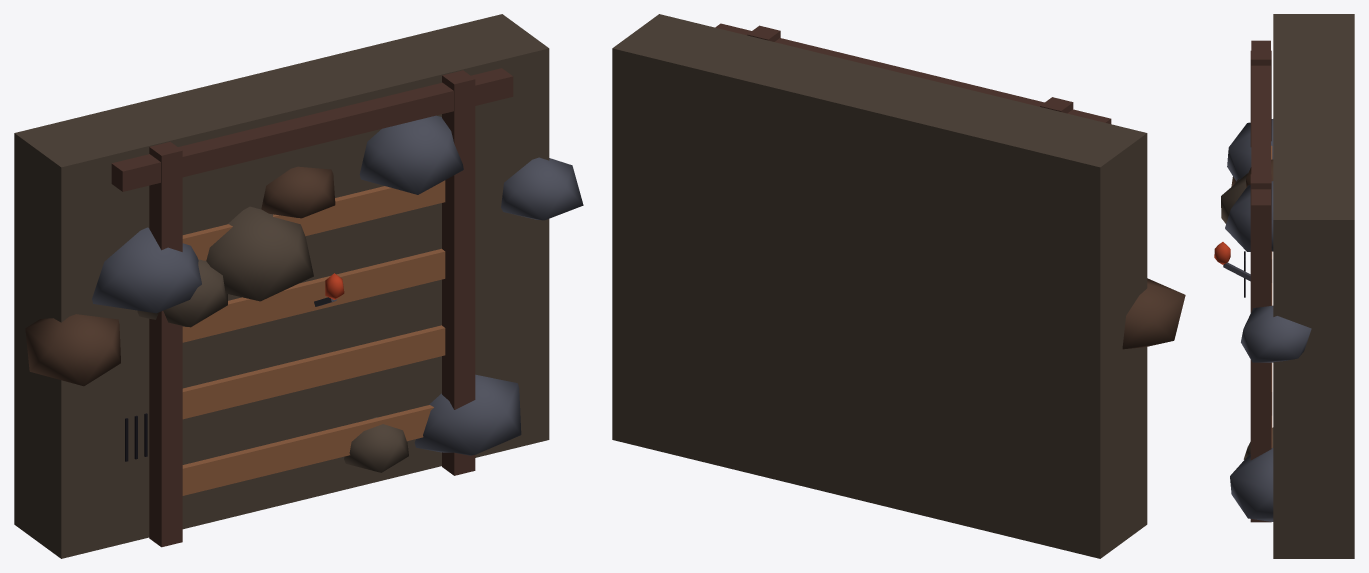
File: warren_wall.glb
3 renders of one model, left to right at view 1: azimuth 30°, elevation 25°; view 2: azimuth 150°, elevation 25°; view 3: azimuth 270°, elevation 25°, orthographic. The views are drawn at different scales.
Parts seen in each view (by area): view 1: earth; view 2: earth; view 3: earth.
Boxes of the visible parts, left/top/right/bottom form: earth: left=14, top=14, right=583, bottom=558; earth: left=612, top=14, right=1185, bottom=558; earth: left=1214, top=14, right=1354, bottom=558.
Size of the model in its own units: 6.67 by 4.6 by 1.72.
